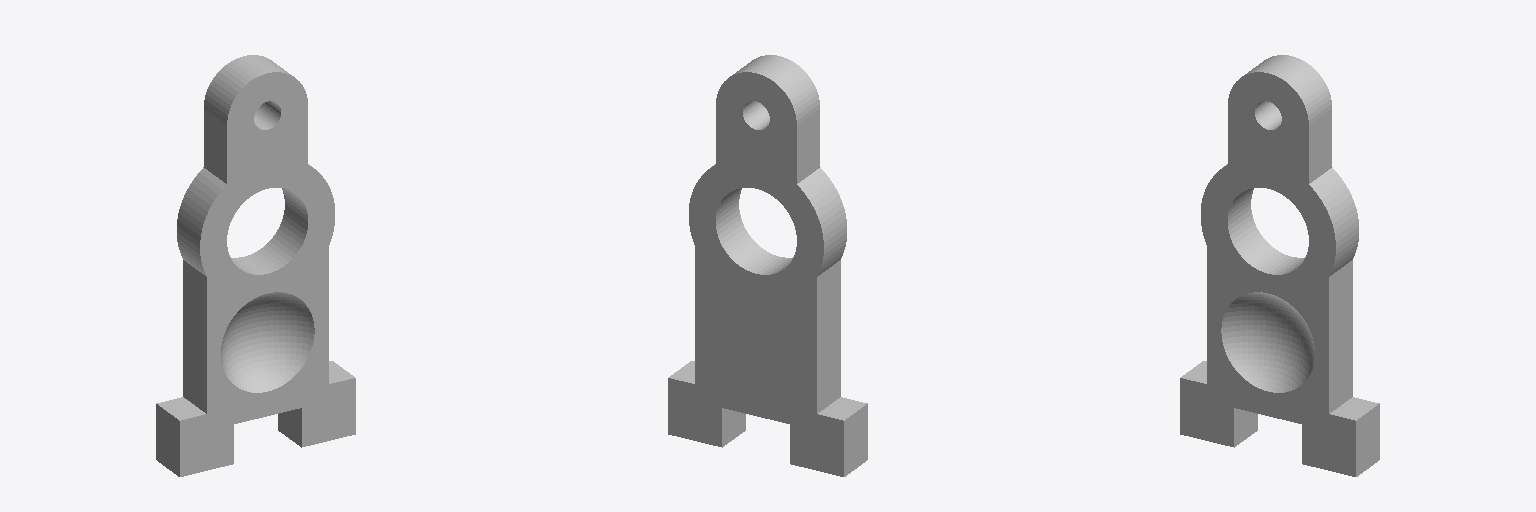
The model's file is mouse_(1).obj.
3 views of the same model, side by side, from view 1: azimuth 30°, elevation 25°; view 2: azimuth 150°, elevation 25°; view 3: azimuth 330°, elevation 25° (orthographic).
Visible parts, largest first — view 1: Wheel_Support_Cap; view 2: Wheel_Support_Cap; view 3: Wheel_Support_Cap.
Boxes of the visible parts, box(x1,y1,x2,y2) form: Wheel_Support_Cap: box(156, 55, 355, 476); Wheel_Support_Cap: box(668, 55, 867, 476); Wheel_Support_Cap: box(1180, 55, 1379, 476).
Bounding box in the file's own units: 0.65 × 1.35 × 0.15.